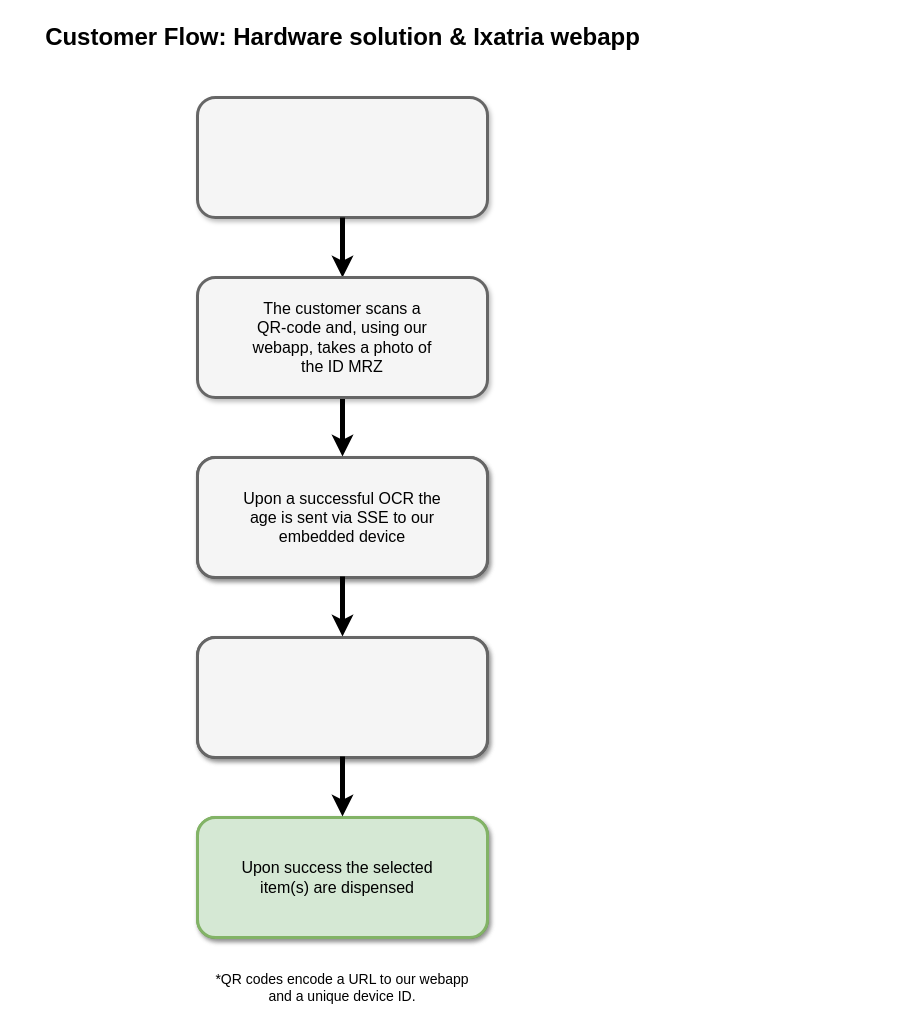
The diagram is 909 pixels wide and 1024 high, and some of its shapes have lost their labels. Here are the shapes that lost their labels. From the top down, the centre of each, then its label:
point 343,159: Item(s) are selected in a vending machine
point 343,699: The embedded device sends a success/fail MDB response
